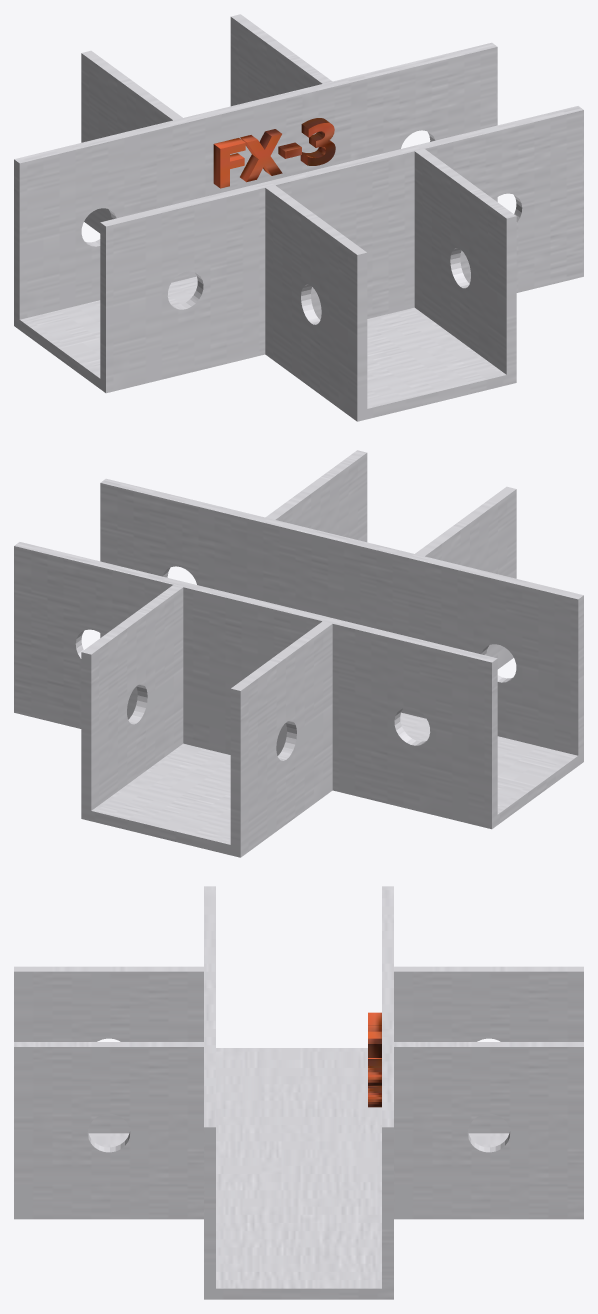
The model's file is FLEX MINI FX 3.glb.
The picture shows the model from 3 angles, top to bottom: view 1: azimuth 30°, elevation 25°; view 2: azimuth 150°, elevation 25°; view 3: azimuth 270°, elevation 25°; orthographic projection. The views are drawn at different scales.
Visible parts, largest first — view 1: G-Object.002, G-Object.001, G-Object, C-FX-3; view 2: G-Object.002, G-Object, G-Object.001; view 3: G-Object.002, G-Object, G-Object.001, C-FX-3.
Part boxes in pixels (x1,y1,x2,y2): G-Object.002: [14, 42, 583, 393]; G-Object.001: [265, 149, 516, 421]; G-Object: [81, 14, 332, 233]; C-FX-3: [213, 118, 335, 188]; G-Object.002: [14, 478, 583, 829]; G-Object: [81, 585, 332, 857]; G-Object.001: [265, 450, 516, 669]; G-Object.002: [204, 886, 393, 1299]; G-Object: [394, 966, 583, 1219]; G-Object.001: [14, 966, 203, 1219]; C-FX-3: [368, 1012, 381, 1107].
Size of the model in its own units: 0.12 by 0.04 by 0.12.
2 materials, 2 textured.
